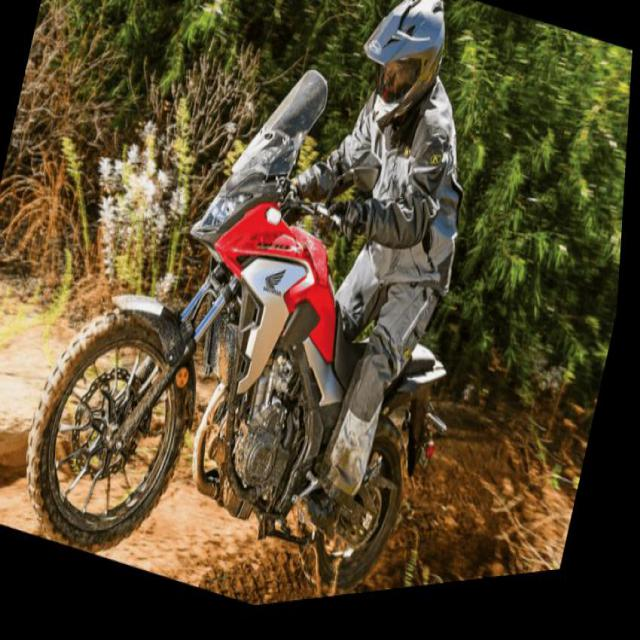CB500X: (8, 0, 514, 635)
